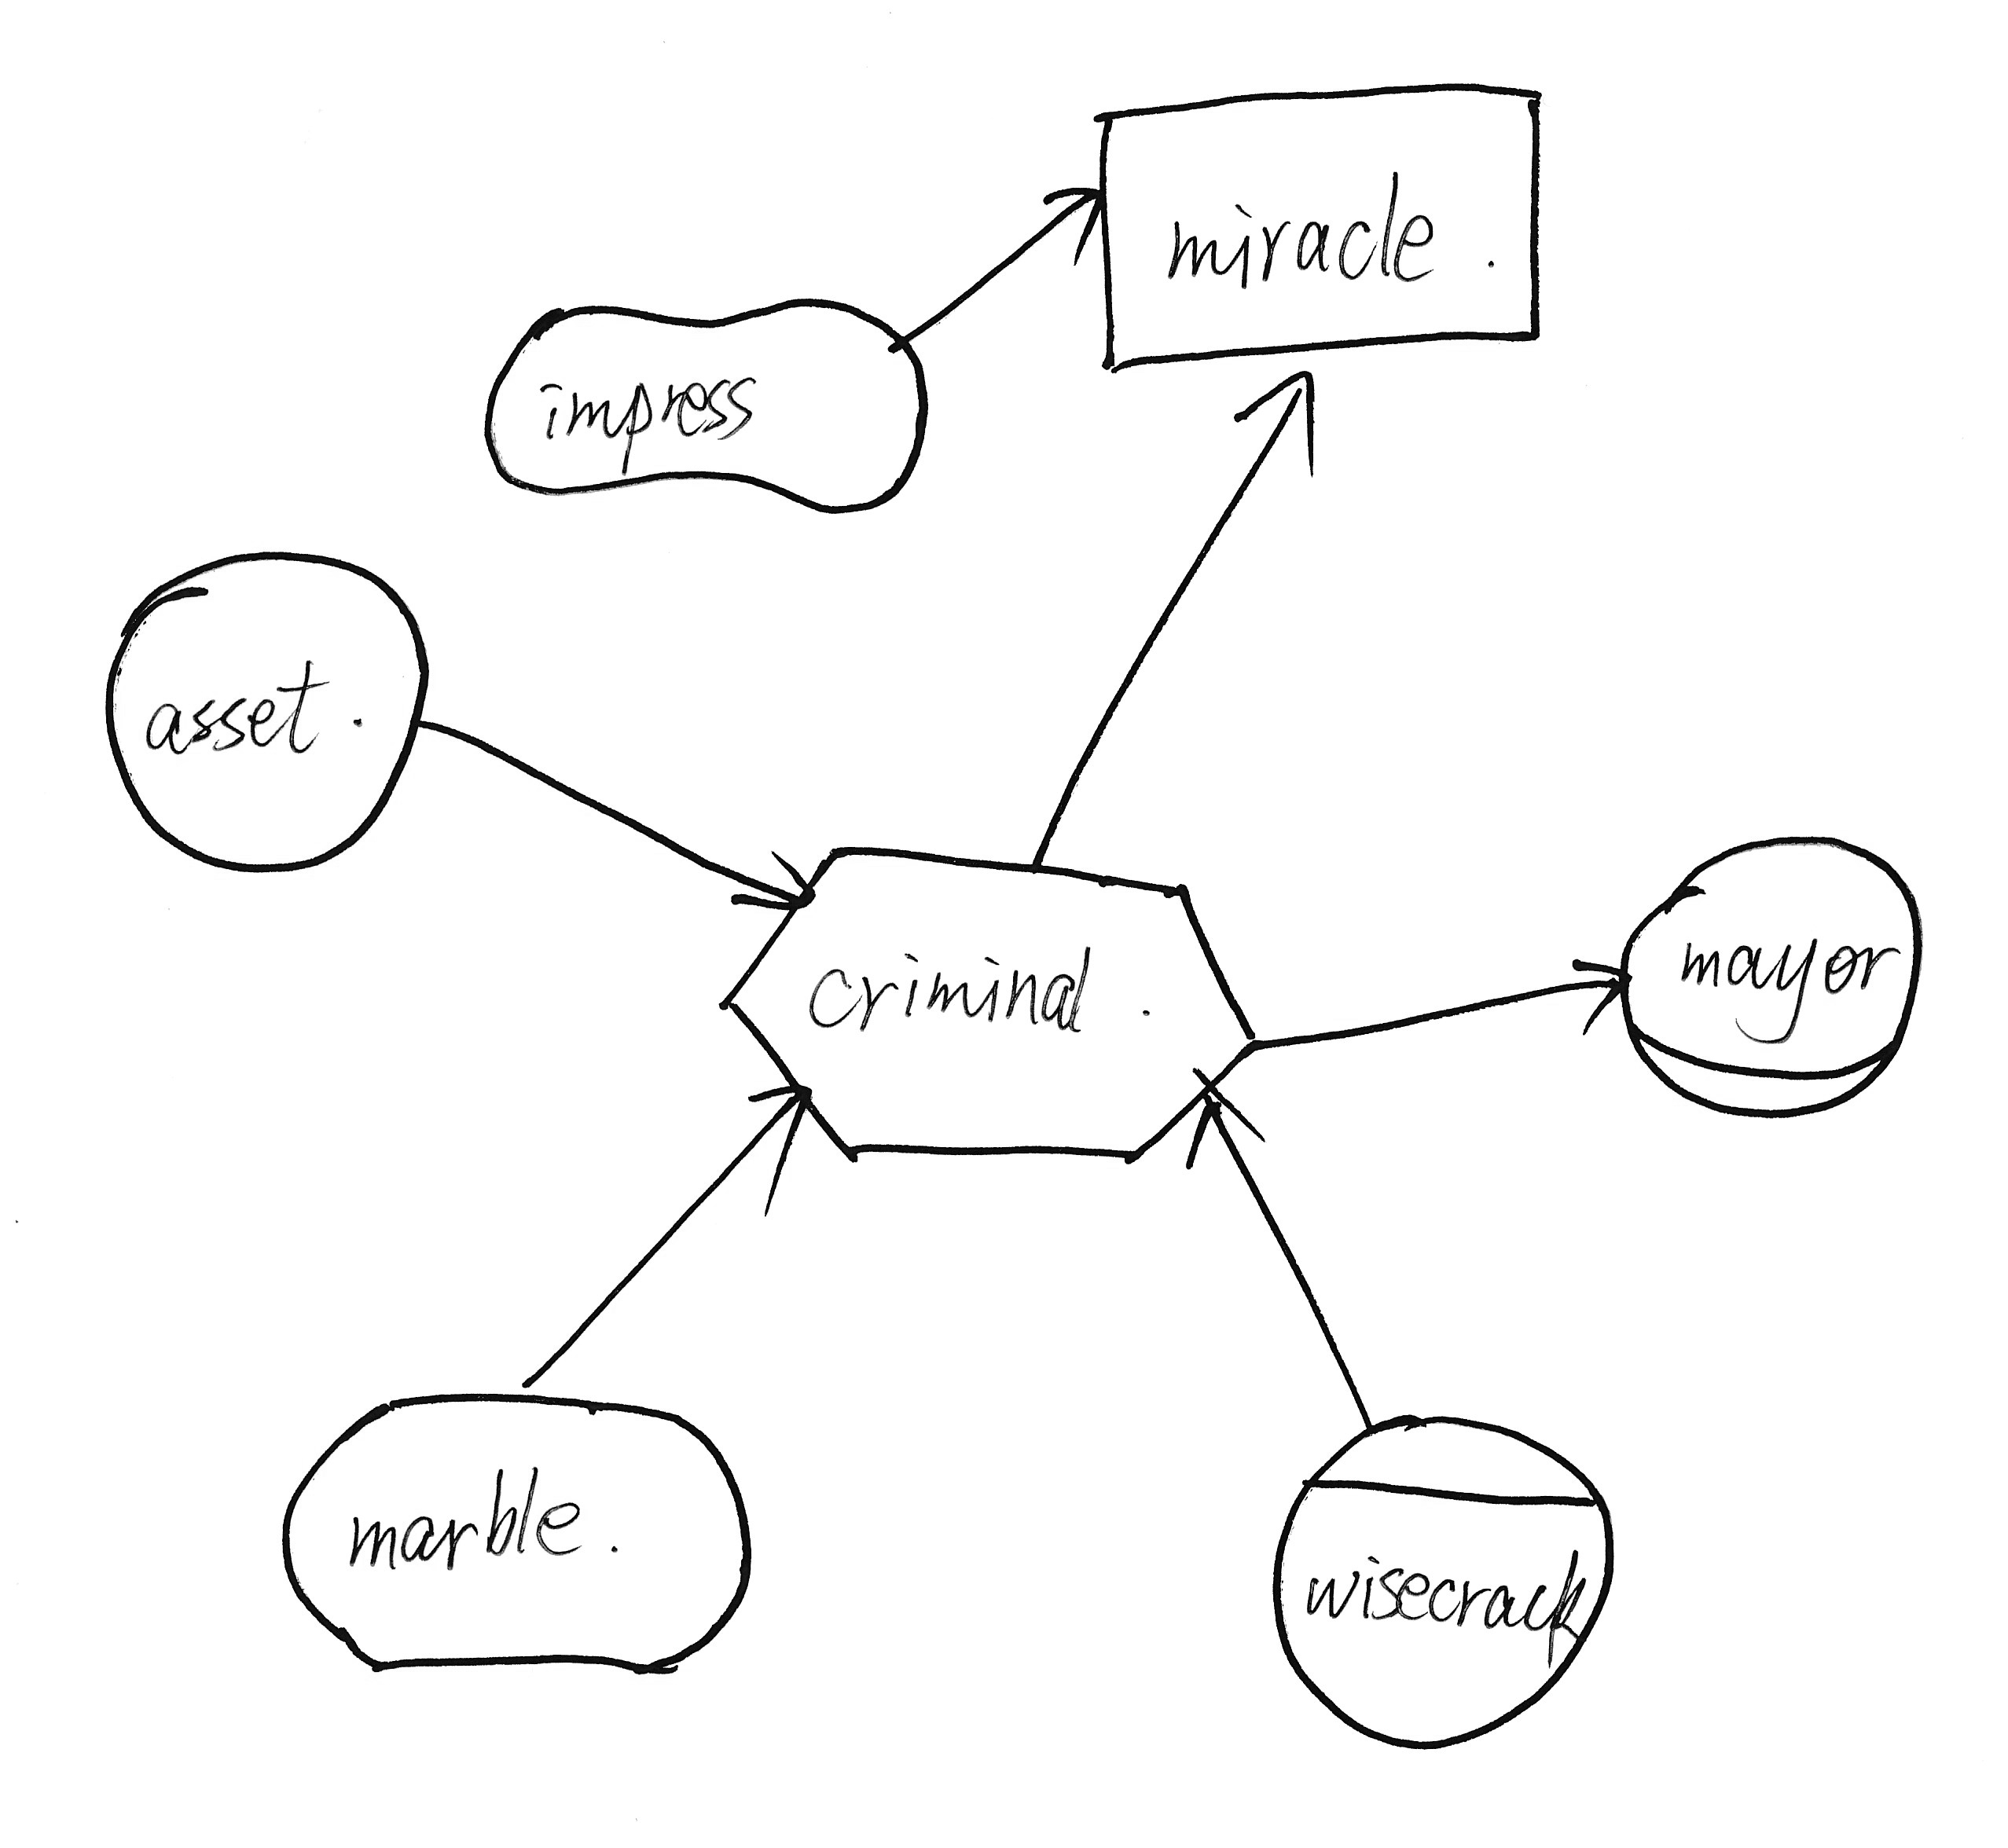actor: (84, 531, 450, 893)
agent: (1258, 1393, 1630, 1766)
arrow: (717, 1058, 826, 1224), (1217, 350, 1342, 486), (1177, 1056, 1282, 1185), (1544, 939, 1648, 1049), (715, 837, 829, 934), (1037, 164, 1116, 273)
goal: (254, 1371, 773, 1692)
quality: (472, 281, 943, 528)
resource: (1074, 59, 1567, 388)
role: (1597, 816, 1943, 1135)
task: (708, 827, 1270, 1184)
